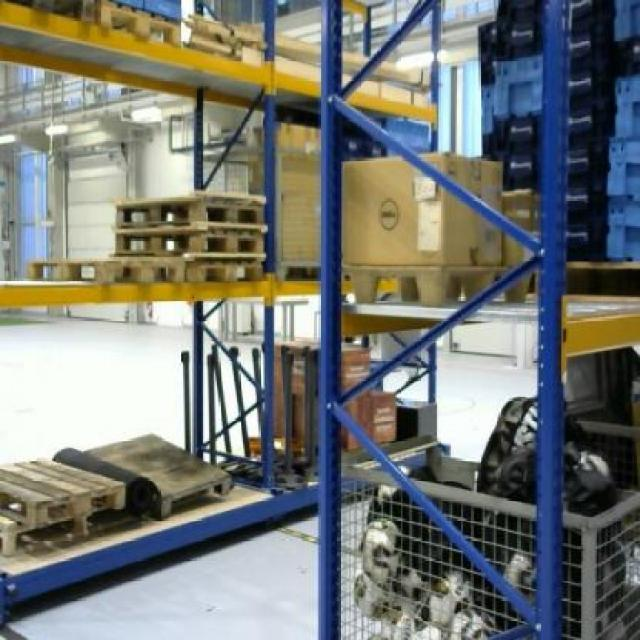box: (344, 150, 504, 266), (275, 117, 320, 263)
